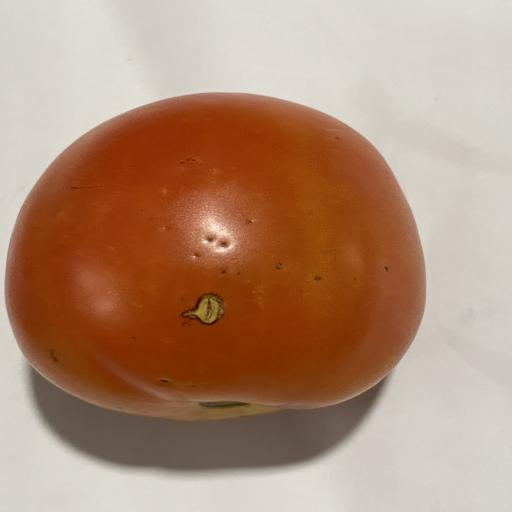unripe: (5, 93, 425, 420), (6, 93, 424, 419)
